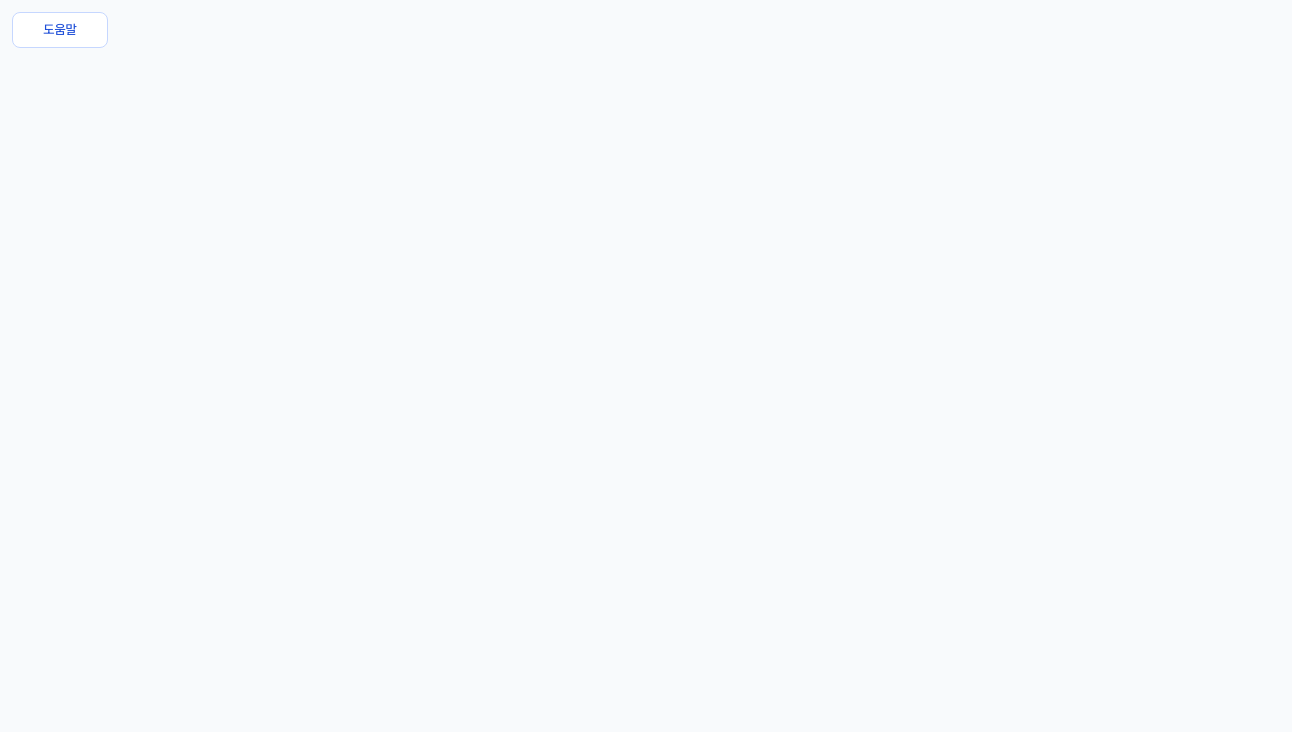
Test: a duplicate live target pauses rather than highlighting an arbitrary element
The image size is (1292, 732).
Click the button "도움말" at (60, 30), box [12,12,108,48]
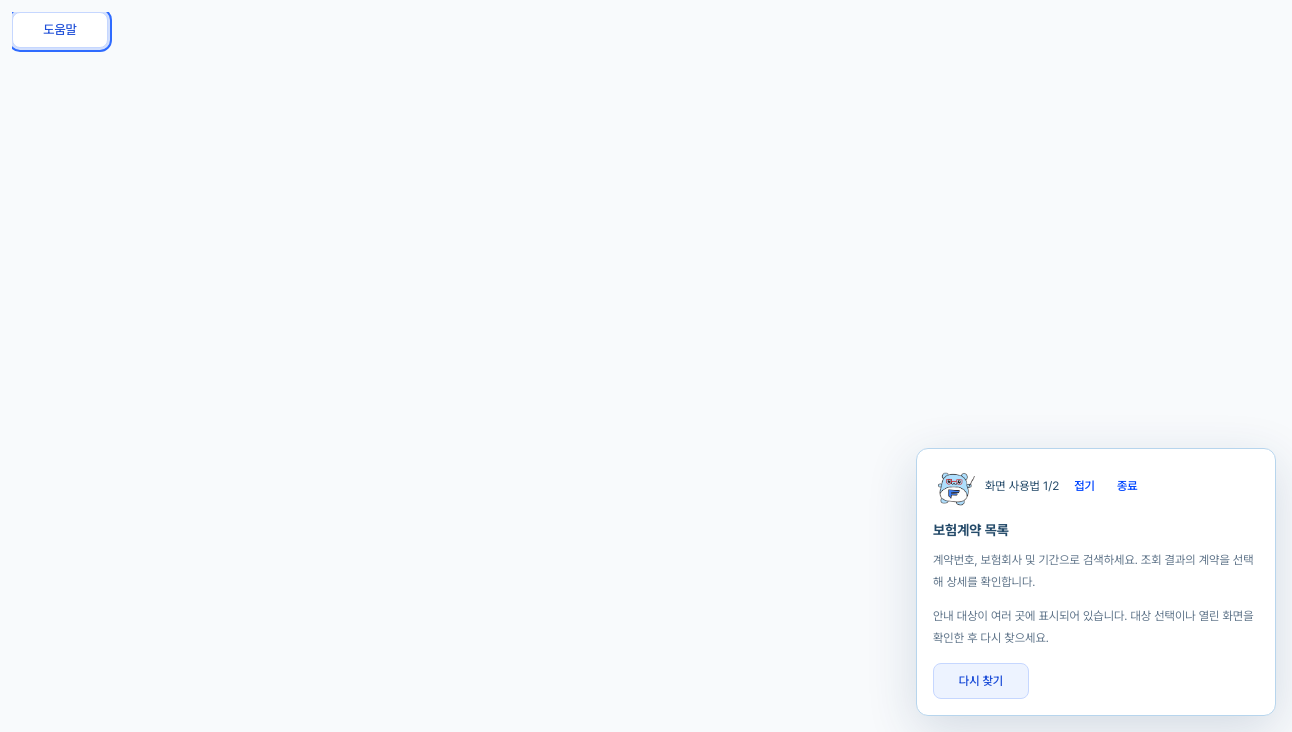
Now the text "안내 대상이 여러 곳에 표시되어 있습니다. 대상 선택이나 열린 화면을 확인한 후 다시 찾으세요." is shown, box [933,605,1259,649]
